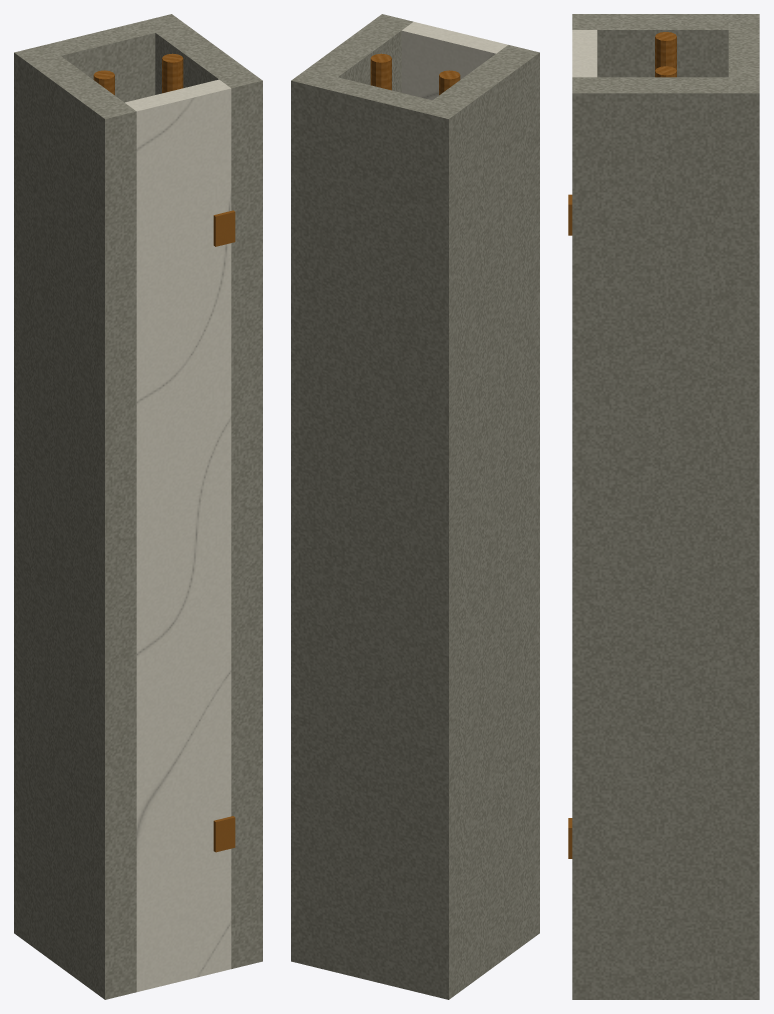
The picture shows the model from 3 angles, left to right: view 1: azimuth 30°, elevation 25°; view 2: azimuth 150°, elevation 25°; view 3: azimuth 270°, elevation 25°; orthographic projection. The views are drawn at different scales.
Visible parts, largest first — view 1: Utility chase stone side, Removable marble inspection panel, Utility chase stone side.001, Utility chase rear, Separated vertical utility conduit.001, Panel release latch.001, Panel release latch; view 2: Utility chase stone side, Utility chase rear, Utility chase stone side.001, Removable marble inspection panel, Separated vertical utility conduit.001; view 3: Utility chase stone side.001, Utility chase stone side, Utility chase rear, Removable marble inspection panel, Separated vertical utility conduit.
Boxes of the visible parts, x1,y1,x2,y2 form: Utility chase stone side: (14, 45, 136, 999); Removable marble inspection panel: (125, 79, 231, 991); Utility chase stone side.001: (140, 14, 262, 968); Utility chase rear: (46, 22, 155, 102); Separated vertical utility conduit.001: (162, 53, 183, 93); Panel release latch.001: (213, 210, 235, 246); Panel release latch: (213, 816, 235, 852); Utility chase stone side: (417, 45, 539, 999); Utility chase rear: (322, 77, 431, 991); Utility chase stone side.001: (291, 14, 413, 968); Removable marble inspection panel: (401, 22, 507, 100); Separated vertical utility conduit.001: (370, 53, 391, 90); Utility chase stone side.001: (572, 77, 759, 999); Utility chase stone side: (572, 14, 759, 77); Utility chase rear: (728, 30, 759, 77); Removable marble inspection panel: (572, 30, 597, 77); Separated vertical utility conduit: (655, 32, 676, 70).
Bounding box in the file's own units: 0.6 × 3.2 × 0.613.
3 materials, 3 textured.
